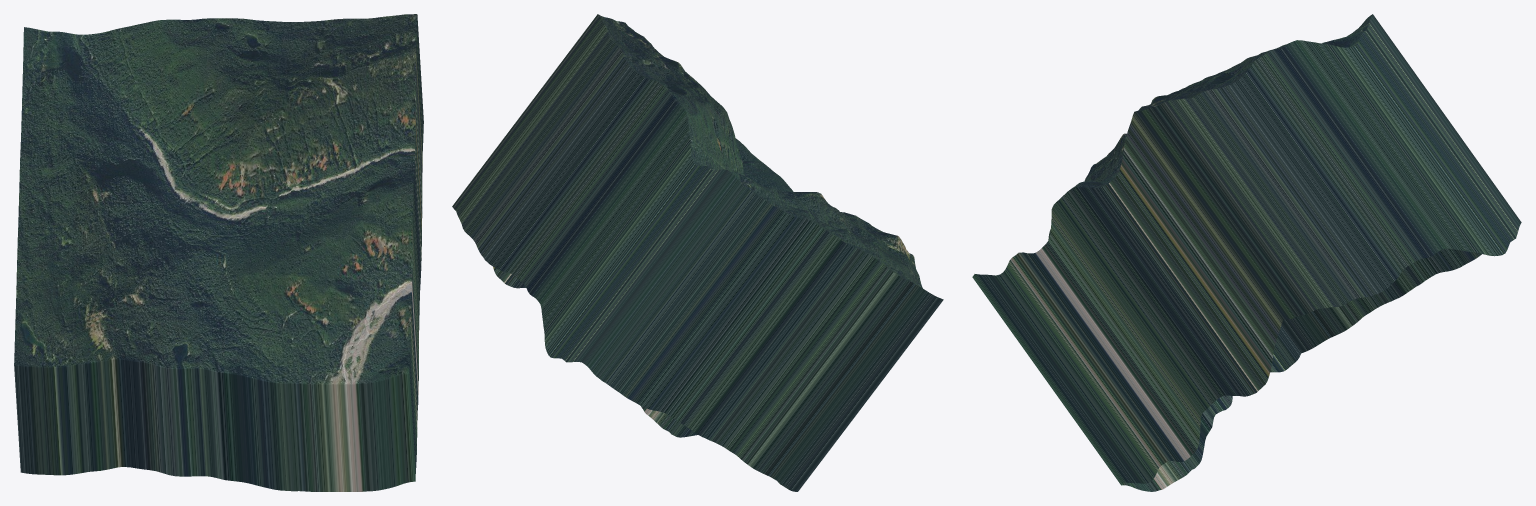
3 views of the same model, side by side, from view 1: azimuth 30°, elevation 25°; view 2: azimuth 150°, elevation 25°; view 3: azimuth 270°, elevation 25° (orthographic). The views are drawn at different scales.
Bounding box in the file's own units: 5979 × 5319 × 6433.
1 material, 1 textured.
